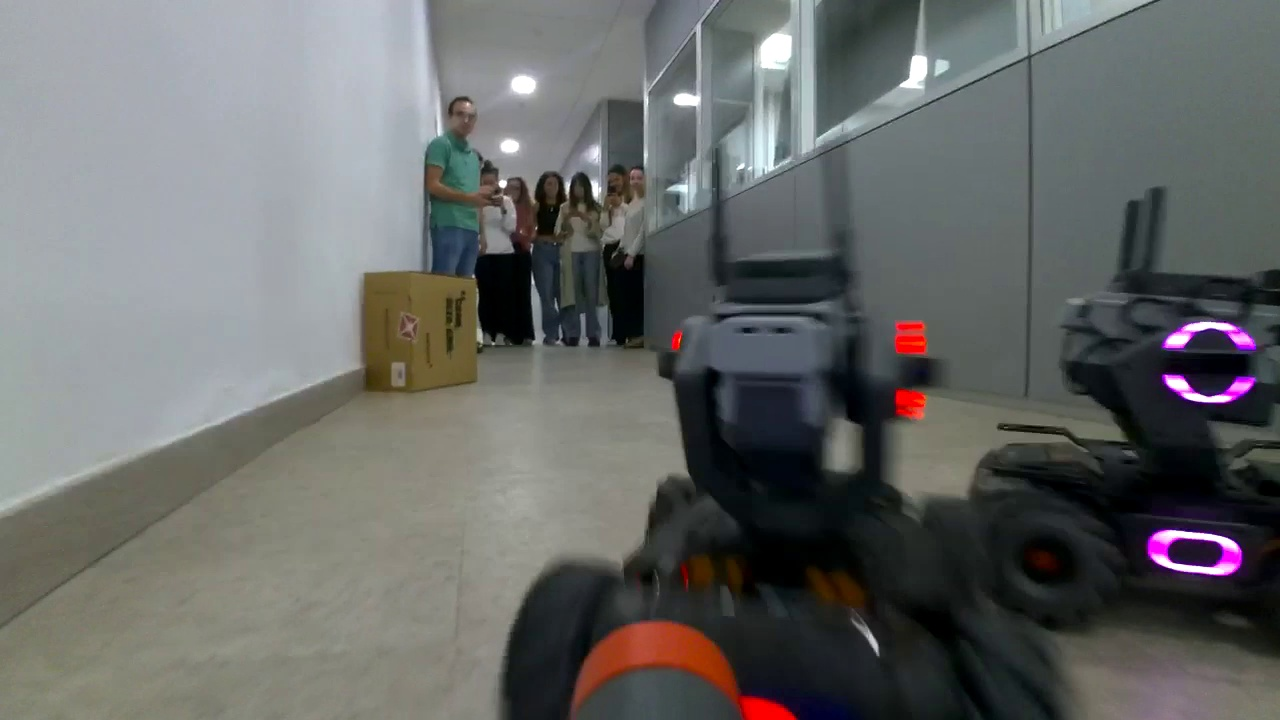robot: (502, 251, 1083, 710), (971, 270, 1279, 614)
